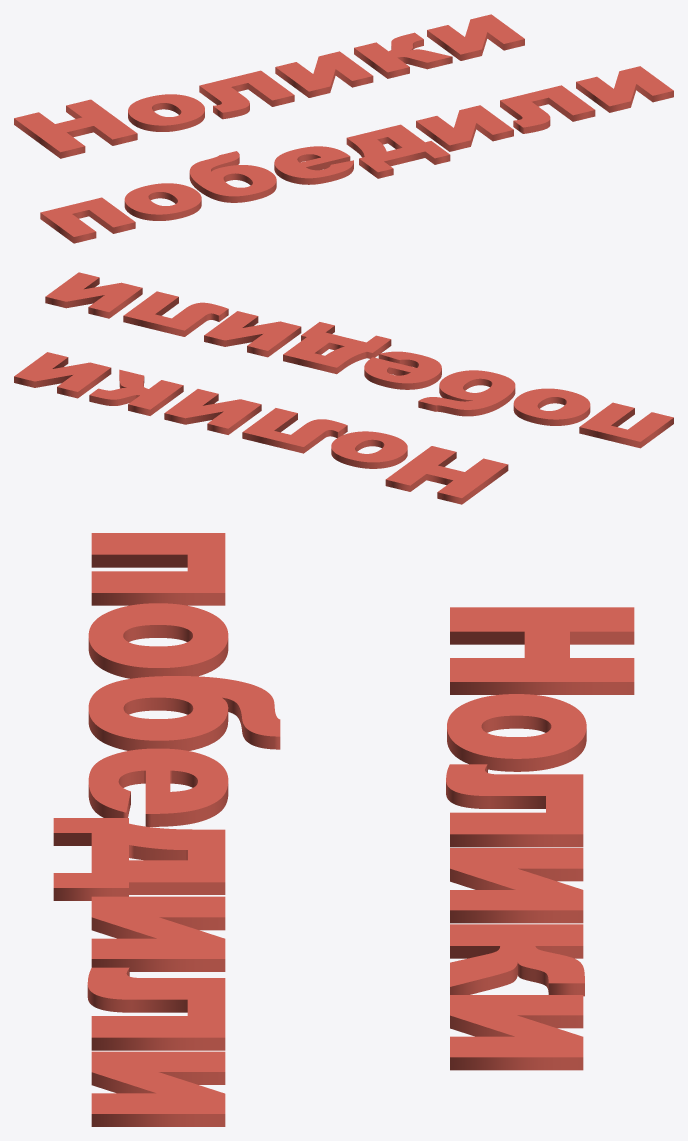
The model's file is Win0.fbx.
3 views of the same model, one above another, from view 1: azimuth 30°, elevation 25°; view 2: azimuth 150°, elevation 25°; view 3: azimuth 270°, elevation 25° (orthographic). The views are drawn at different scales.
Visible parts, largest first — view 1: Text; view 2: Text; view 3: Text.
Boxes of the visible parts, x1,y1,x2,y2 form: Text: [14, 14, 673, 243]; Text: [14, 272, 673, 504]; Text: [53, 533, 634, 1126].
Size of the model in its own units: 384 by 4 by 162.
